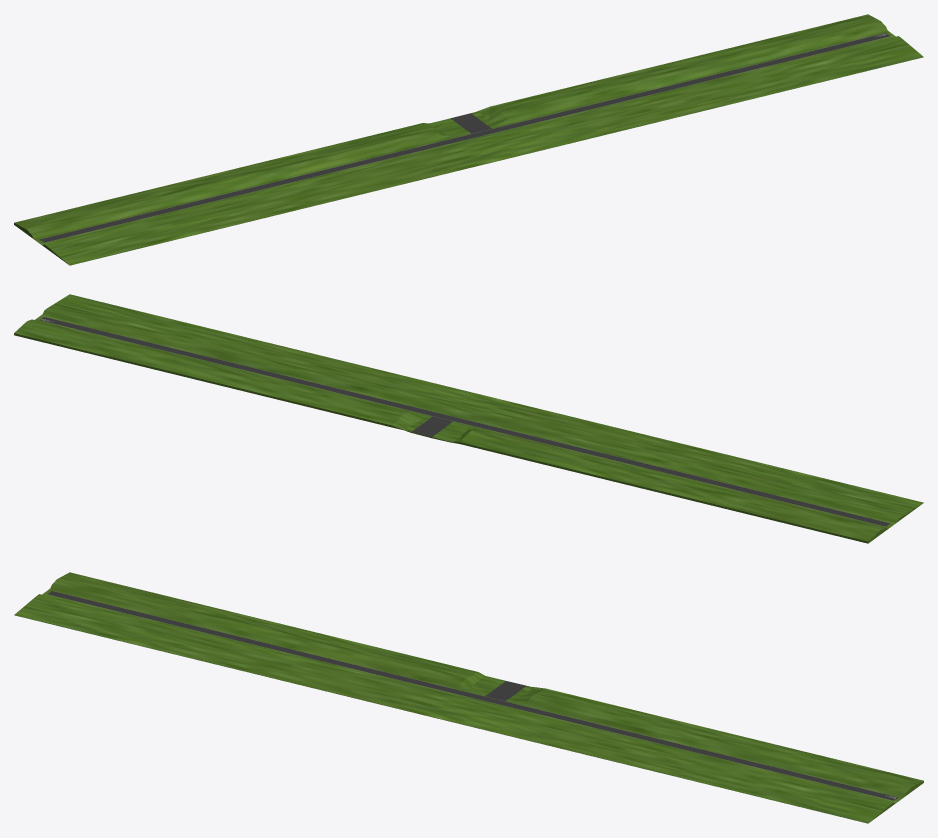
The model's file is testplatform.obj.
3 renders of one model, top to bottom at view 1: azimuth 30°, elevation 25°; view 2: azimuth 150°, elevation 25°; view 3: azimuth 330°, elevation 25°, orthographic.
Visible parts, largest first — view 1: Cube.002; view 2: Cube.002; view 3: Cube.002.
Part boxes in pixels (bbox=[...]): Cube.002: bbox=[14, 14, 923, 265]; Cube.002: bbox=[14, 294, 923, 543]; Cube.002: bbox=[14, 572, 923, 823].
Size of the model in its own units: 2921 by 18.75 by 331.
Materials: 2 (2 with a texture image).
